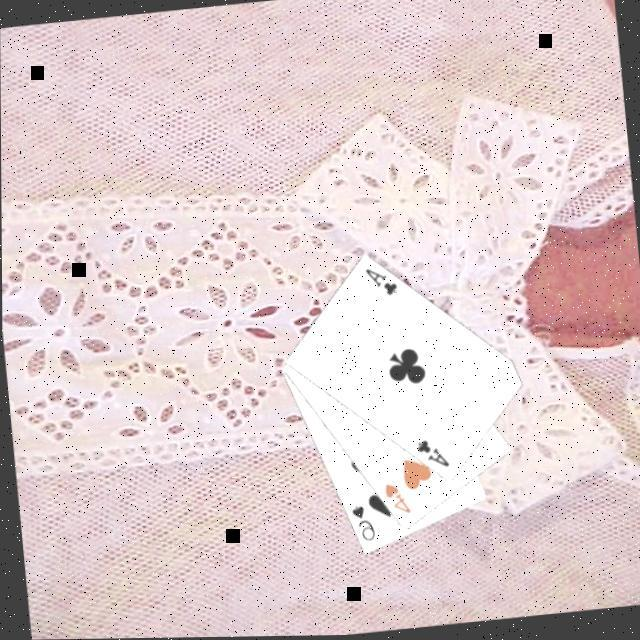4H: (381, 480, 414, 520)
9S: (349, 502, 379, 546)
AC: (413, 436, 454, 475), (362, 263, 403, 302)
